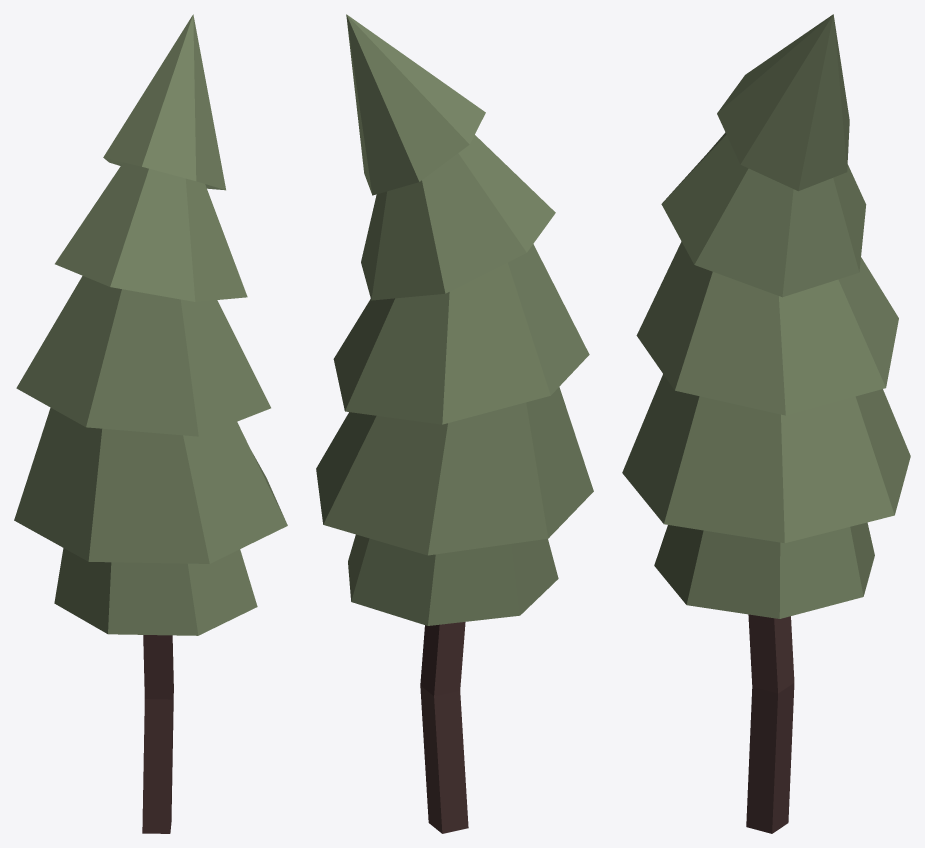
Rendered from DyingVegetationDecorationLargeWeatheredTree1.fbx.
3 renders of one model, left to right at view 1: azimuth 30°, elevation 25°; view 2: azimuth 150°, elevation 25°; view 3: azimuth 270°, elevation 25°, orthographic. The views are drawn at different scales.
Parts seen in each view (by area): view 1: Canopy, Trunk; view 2: Canopy, Trunk; view 3: Canopy, Trunk.
Part boxes in pixels (left/top/right/bottom): Canopy: left=14, top=14, right=287, bottom=635; Trunk: left=142, top=635, right=173, bottom=833; Canopy: left=316, top=14, right=593, bottom=625; Trunk: left=420, top=622, right=468, bottom=833; Canopy: left=622, top=14, right=910, bottom=618; Trunk: left=746, top=614, right=794, bottom=833.
Bounding box in the file's own units: 575 × 1803 × 557.
